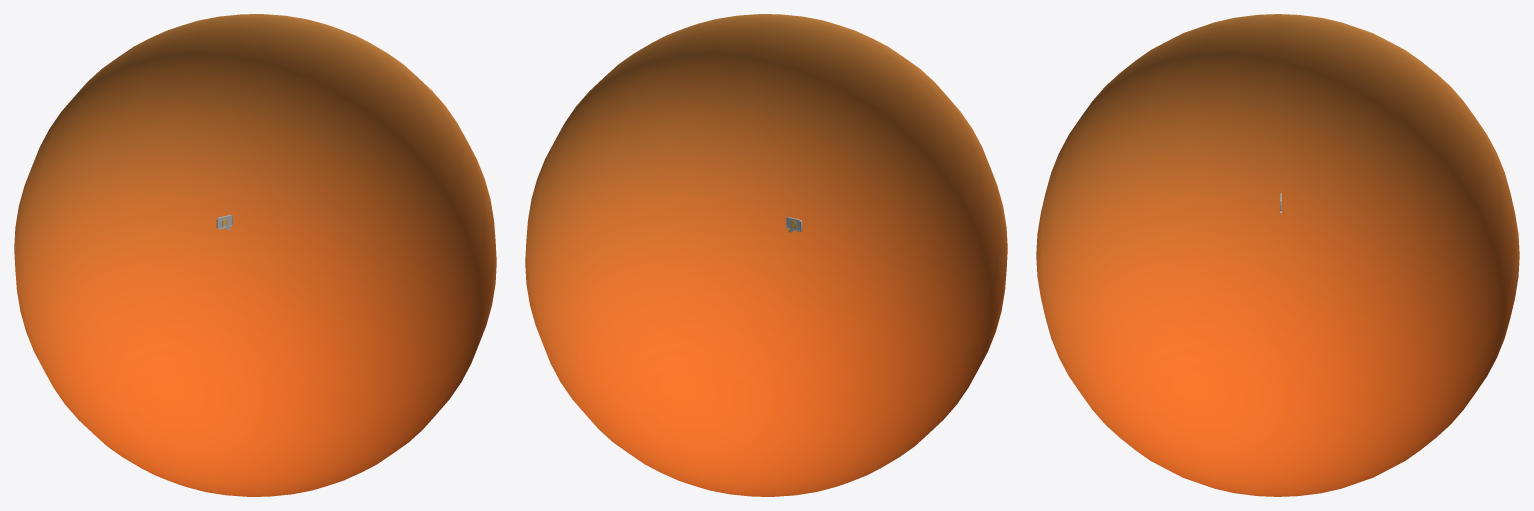
3 renders of one model, left to right at view 1: azimuth 30°, elevation 25°; view 2: azimuth 150°, elevation 25°; view 3: azimuth 270°, elevation 25°, orthographic.
Size of the model in its own units: 680 by 680 by 680.
3 materials, 2 textured.
